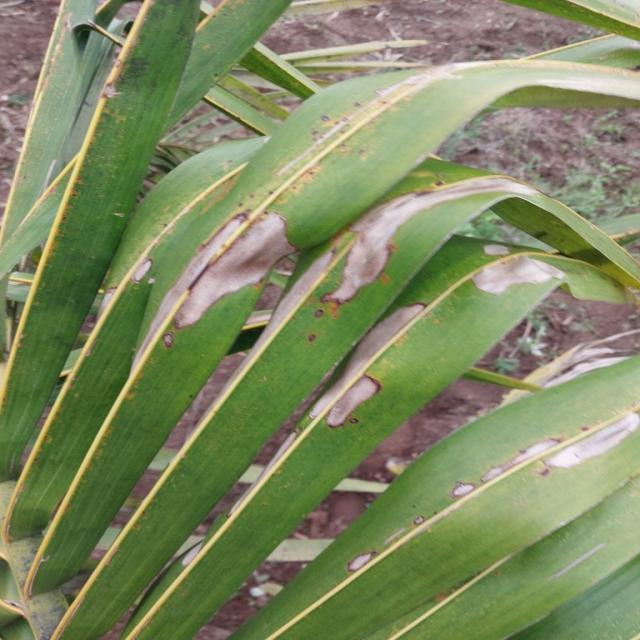gray leaf spot: (117, 179, 636, 477)
